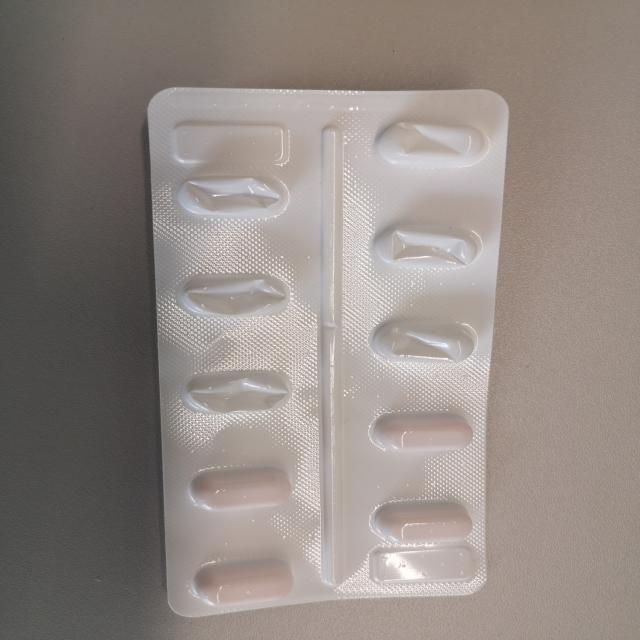Empty: (366, 114, 497, 172), (168, 267, 302, 323), (366, 217, 488, 274), (168, 169, 298, 222), (360, 312, 482, 367), (178, 367, 302, 418)
Pill: (358, 407, 480, 457), (184, 462, 298, 514), (189, 554, 298, 607), (364, 498, 479, 546)
